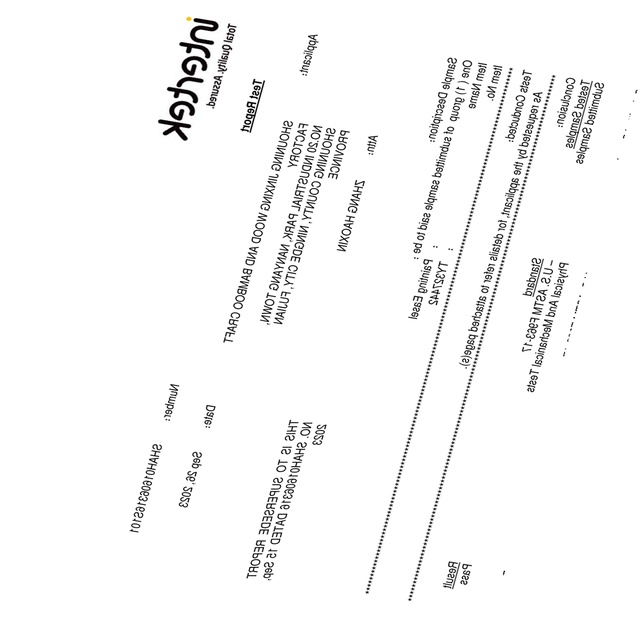intertek: (158, 11, 220, 142)
